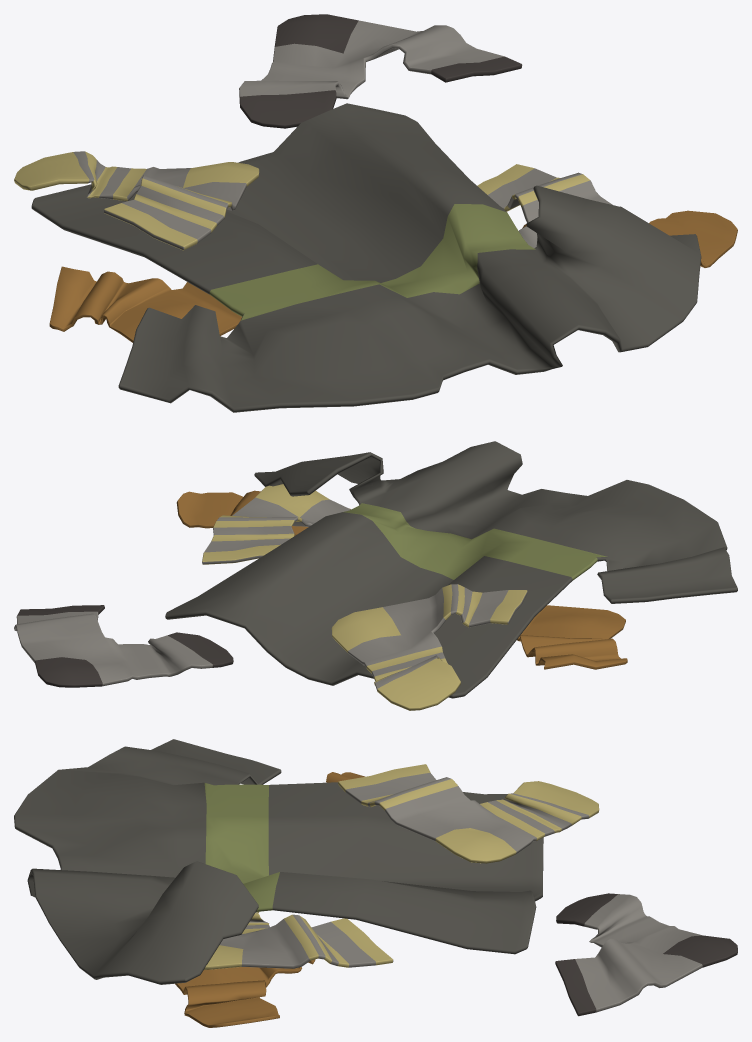
Rendered from ClothesPile_B.fbx.
The picture shows the model from 3 angles, top to bottom: view 1: azimuth 30°, elevation 25°; view 2: azimuth 150°, elevation 25°; view 3: azimuth 270°, elevation 25°; orthographic projection. The views are drawn at different scales.
Parts seen in each view (by area): view 1: ClothesPile_B; view 2: ClothesPile_B; view 3: ClothesPile_B.
Boxes of the visible parts, <box> form: ClothesPile_B: <box>14,14,737,412</box>; ClothesPile_B: <box>14,441,737,710</box>; ClothesPile_B: <box>14,739,737,1027</box>.
Size of the model in its own units: 0.6726 by 0.1068 by 0.7649.
